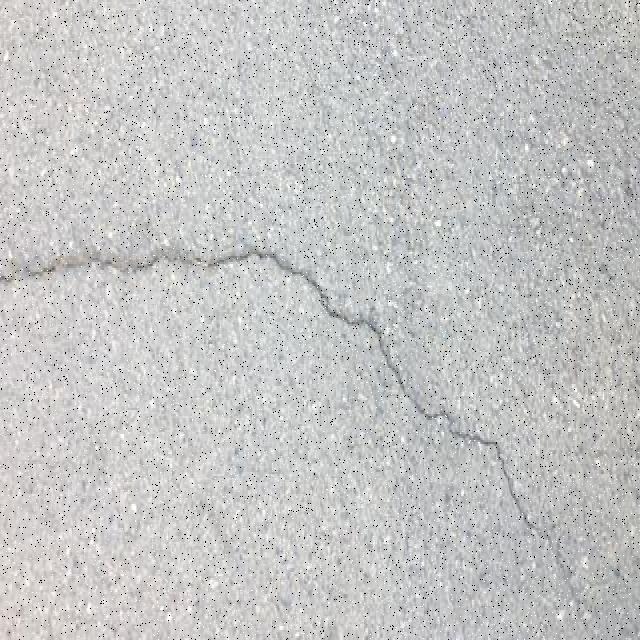minor crack: (0, 254, 40, 283)
moderate crack: (356, 304, 549, 535), (297, 4, 457, 260), (496, 442, 615, 615), (212, 244, 396, 342)
severe crack: (3, 240, 262, 285), (373, 332, 421, 404), (440, 423, 504, 448), (413, 401, 466, 428), (325, 303, 372, 330), (200, 246, 261, 266), (268, 249, 307, 272), (123, 251, 166, 270), (251, 250, 276, 262)
